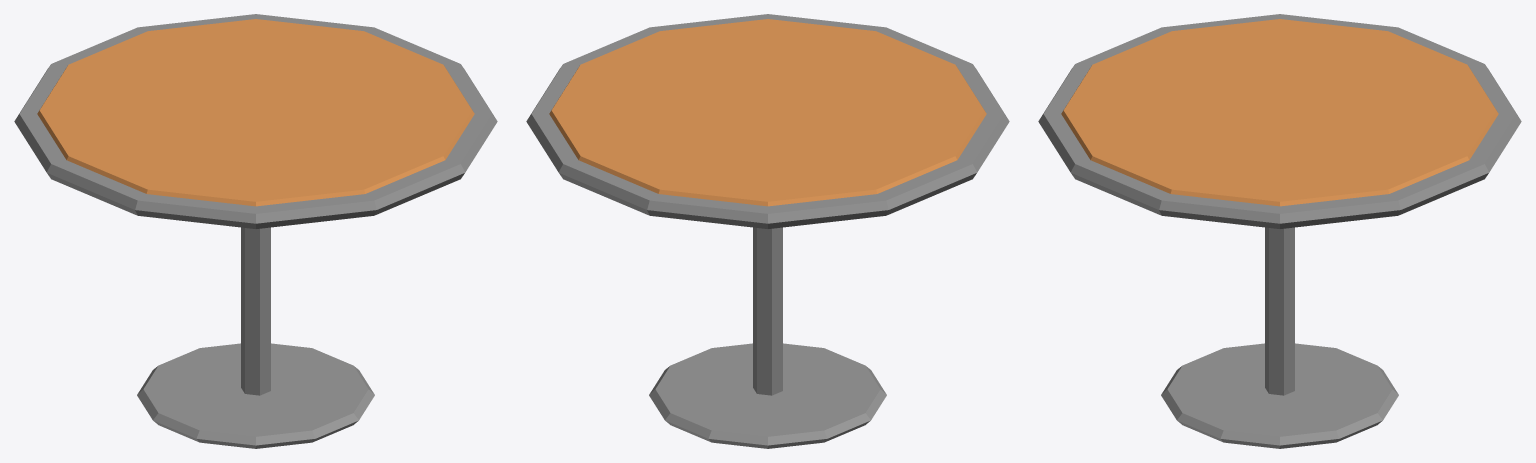
The model's file is Int_Table06_4.fbx.
3 views of the same model, side by side, from view 1: azimuth 30°, elevation 25°; view 2: azimuth 150°, elevation 25°; view 3: azimuth 270°, elevation 25° (orthographic).
Parts seen in each view (by area): view 1: Int_Table06_4; view 2: Int_Table06_4; view 3: Int_Table06_4.
Part boxes in pixels (x1,y1,x2,y2): Int_Table06_4: (14, 14, 497, 448); Int_Table06_4: (526, 14, 1009, 448); Int_Table06_4: (1038, 14, 1521, 448).
Size of what is drawn, in the model's own units: 105 by 105 by 69.96.
